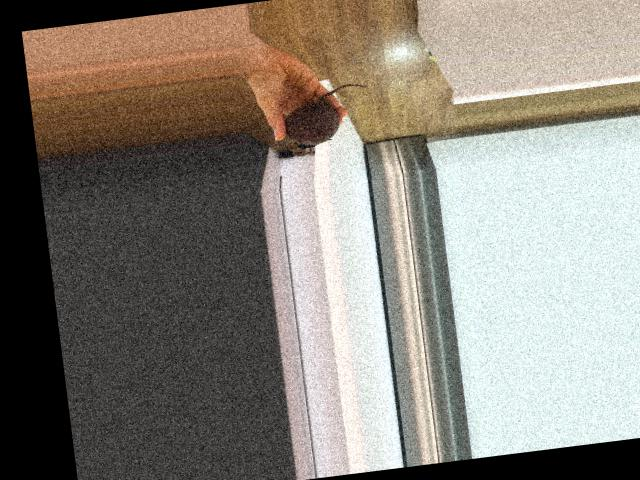beet: (281, 81, 374, 150)
